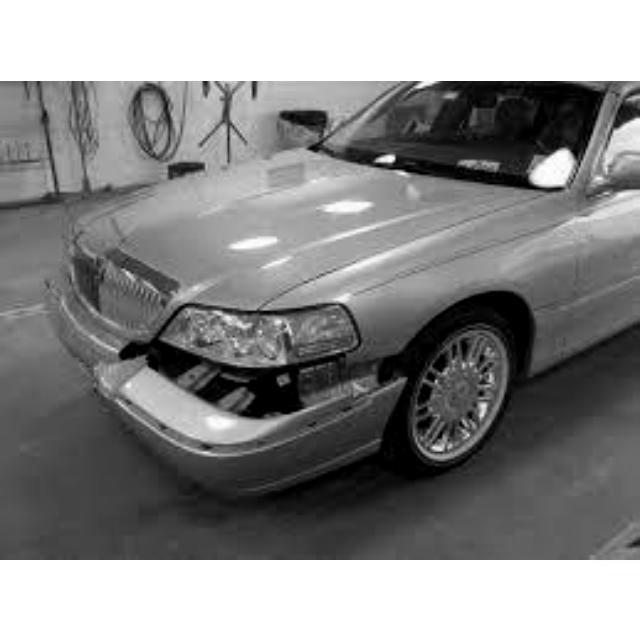front-bumper-dent: (104, 347, 338, 500)
